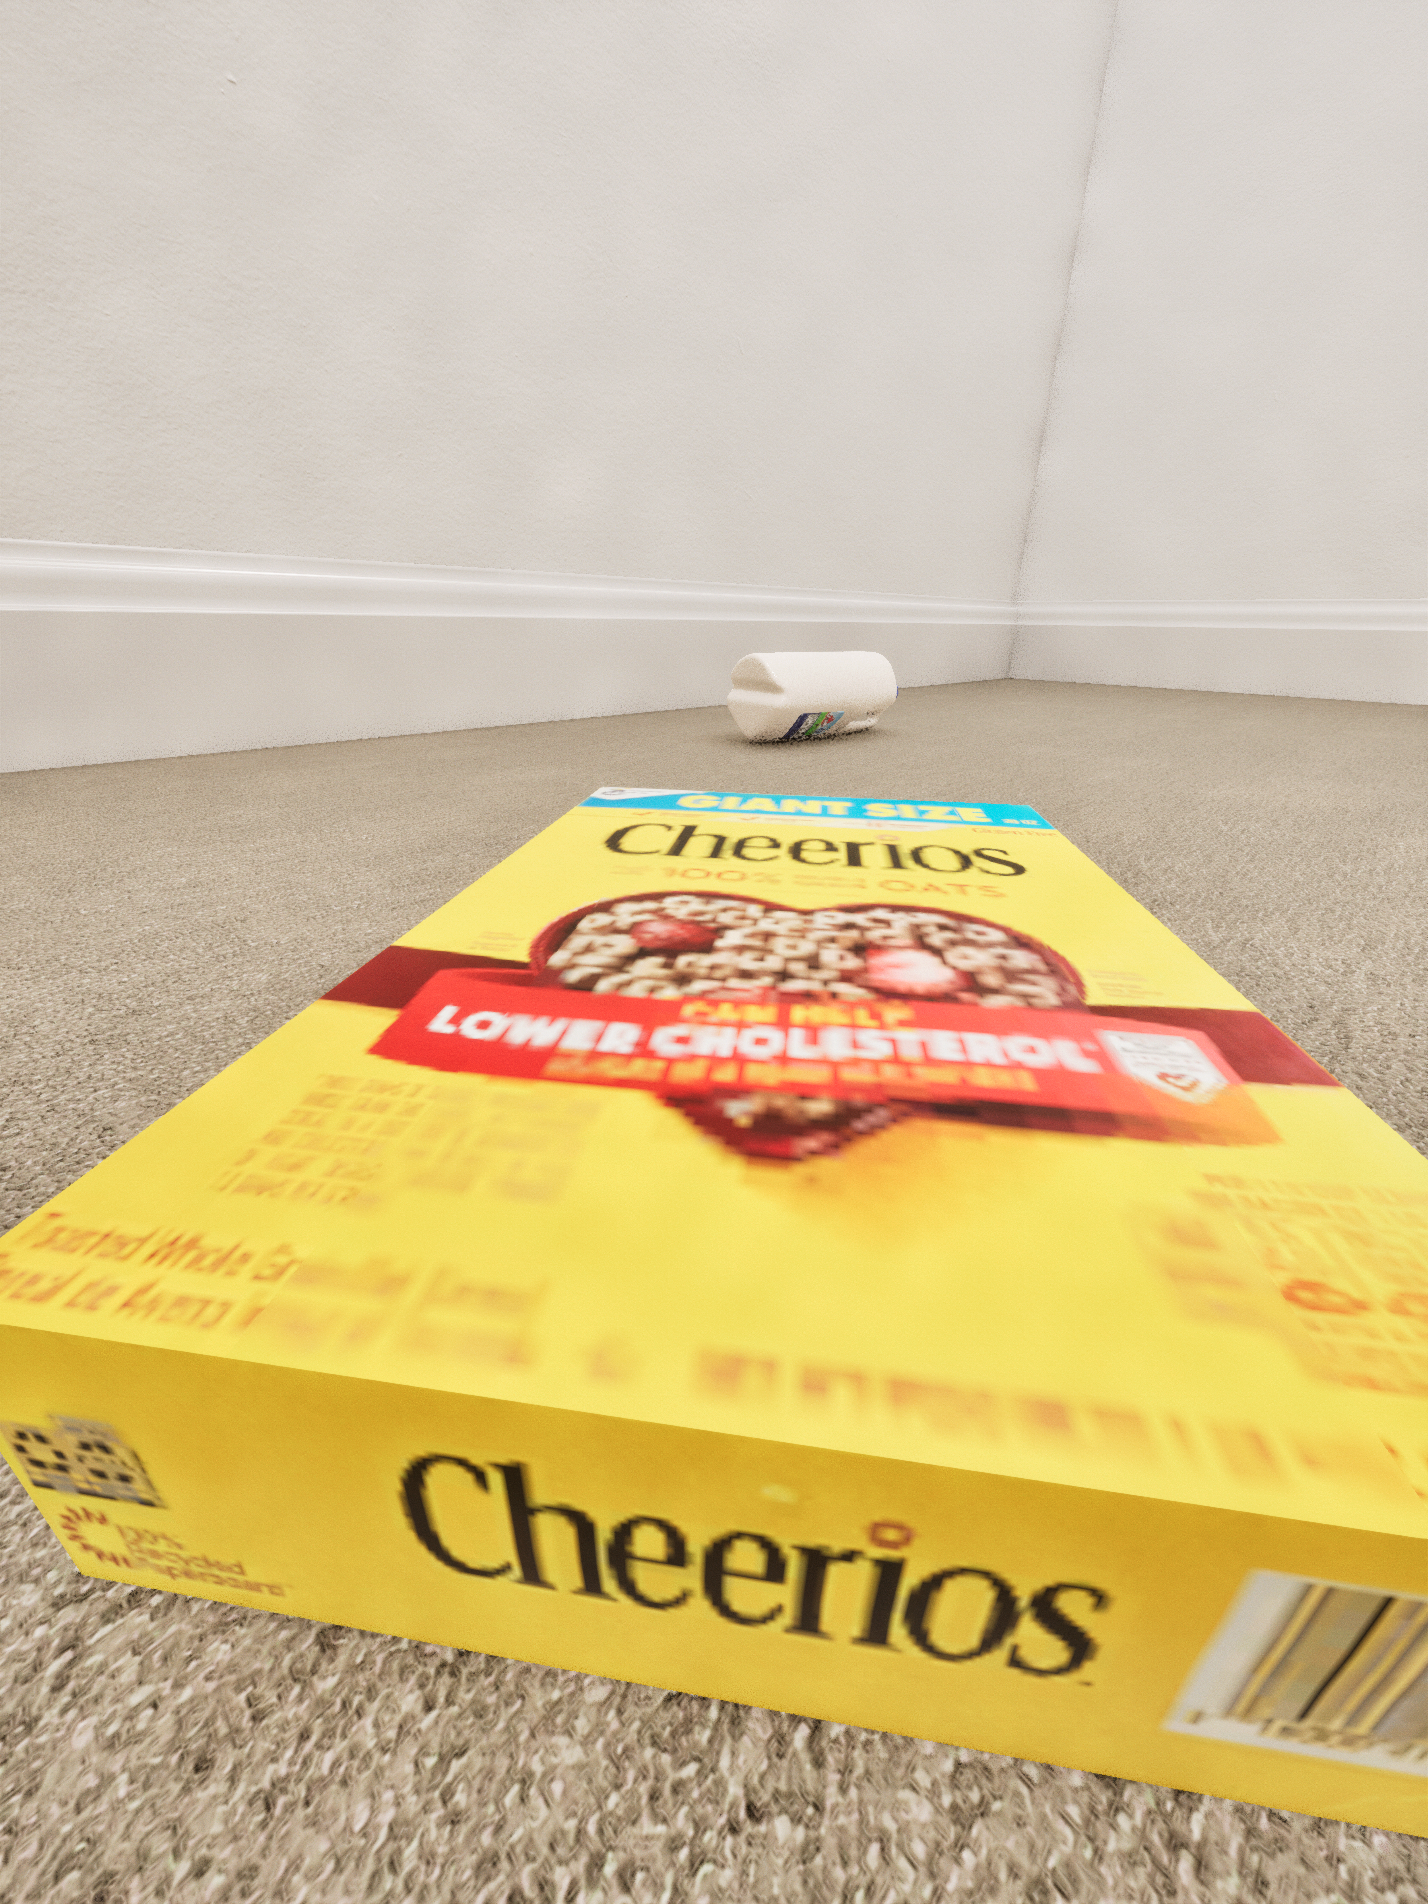cheerios: (0, 787, 1428, 1838)
